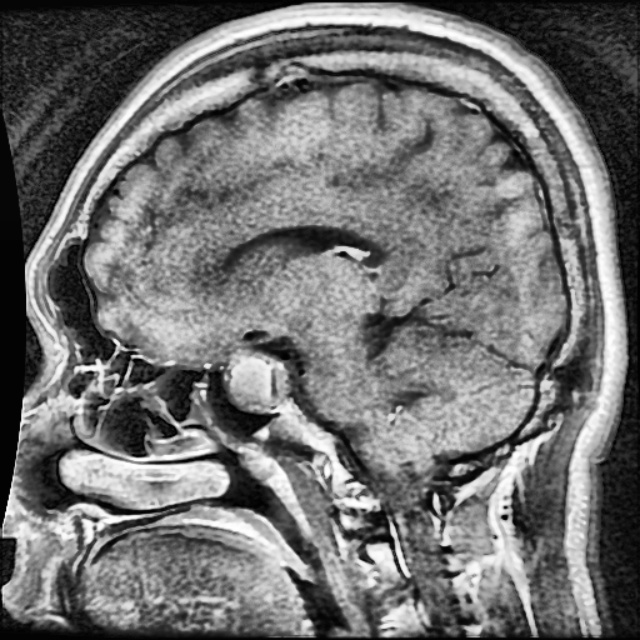Pituitary: (227, 353, 289, 410)
